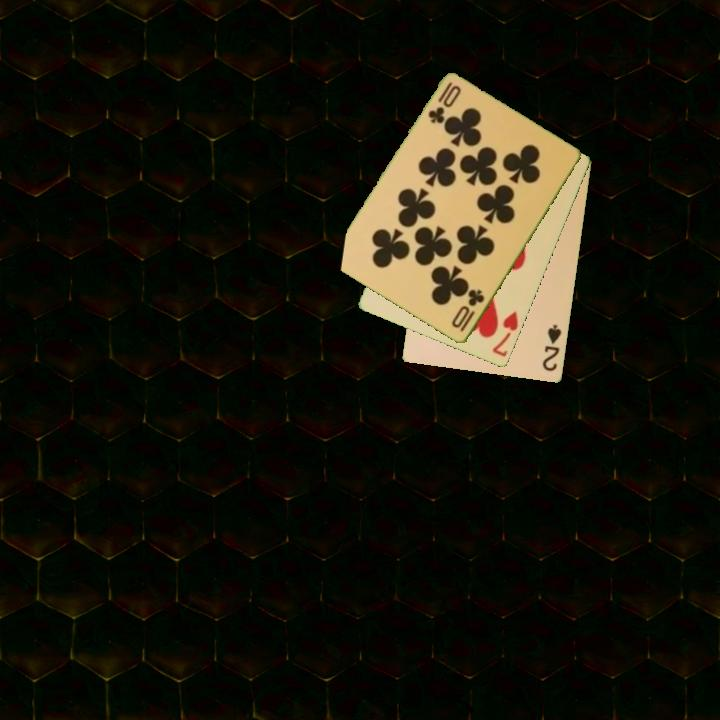10c: (448, 286, 487, 336), (424, 79, 455, 127)
2s: (539, 321, 564, 374)
7h: (489, 308, 521, 360)
